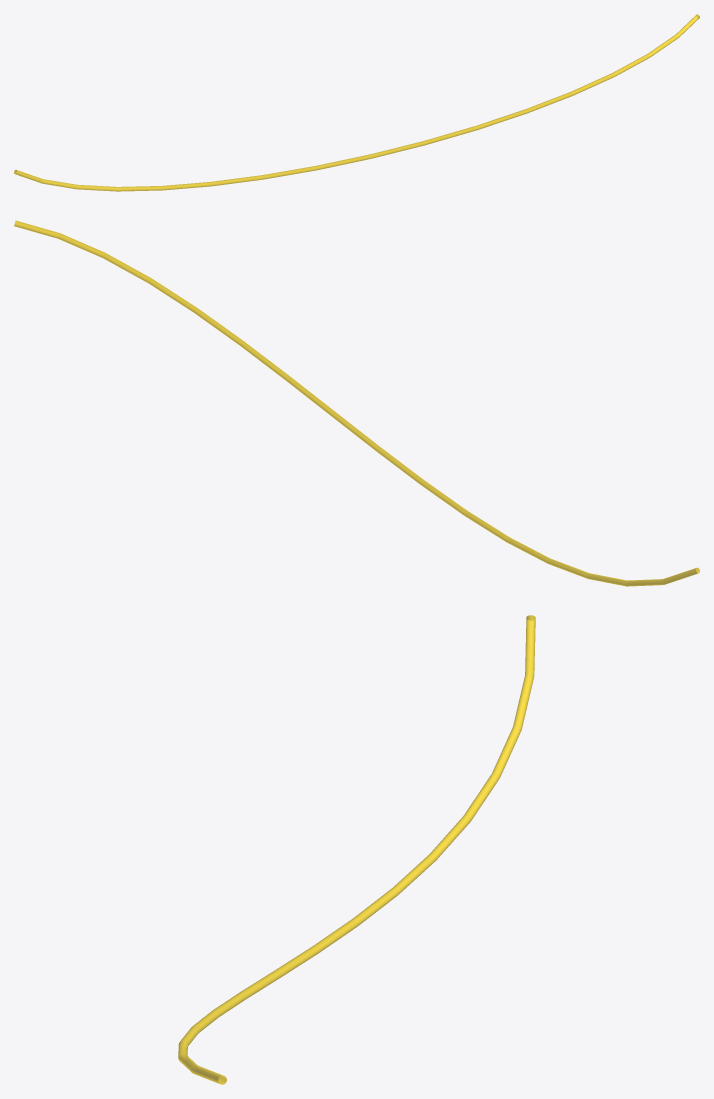
The model's file is Event_17758602_track_43.fbx.
3 renders of one model, top to bottom at view 1: azimuth 30°, elevation 25°; view 2: azimuth 150°, elevation 25°; view 3: azimuth 270°, elevation 25°, orthographic. The views are drawn at different scales.
Parts seen in each view (by area): view 1: Model; view 2: Model; view 3: Model.
Boxes of the visible parts, x1,y1,x2,y2 form: Model: (14,14,699,191); Model: (14,220,699,586); Model: (178,615,535,1084).
Size of the model in its own units: 6.01 by 0.9923 by 1.53.
